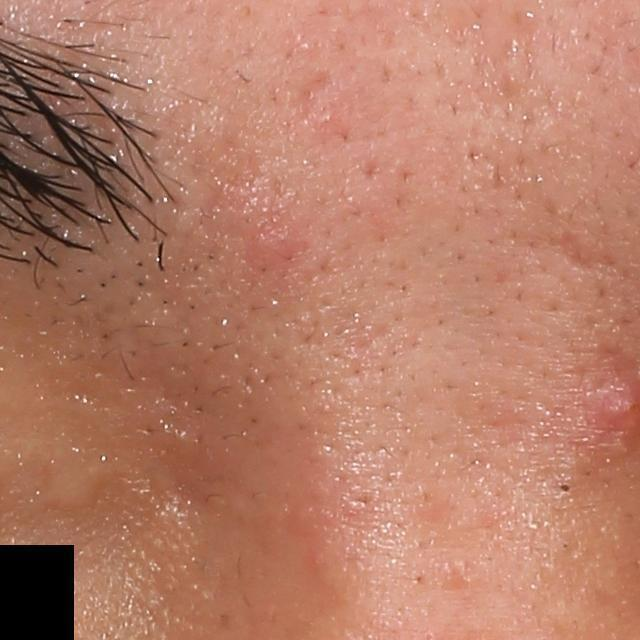atrophic_scar: (287, 64, 336, 134), (559, 229, 605, 274)
comedo: (556, 479, 576, 498)
papule: (242, 219, 301, 274)
